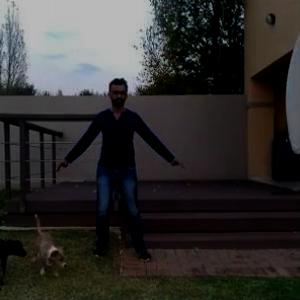land: (57, 88, 200, 250)
